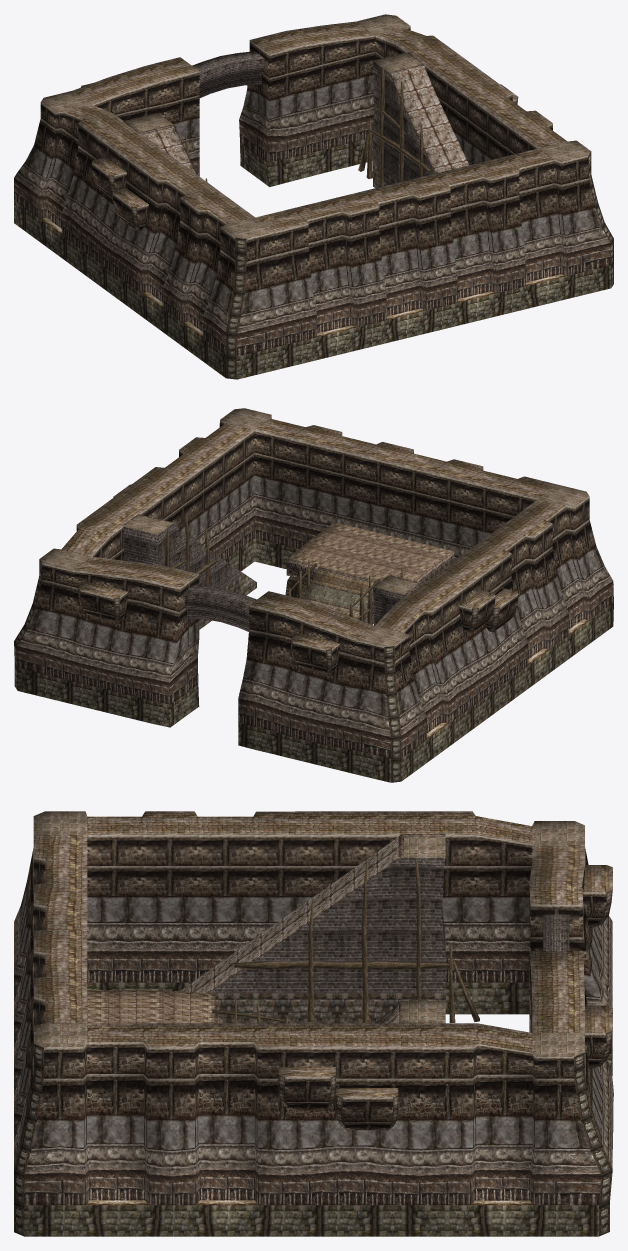
Rendered from OZ_30_er_build01B.glb.
The picture shows the model from 3 angles, top to bottom: view 1: azimuth 30°, elevation 25°; view 2: azimuth 150°, elevation 25°; view 3: azimuth 270°, elevation 25°; orthographic projection. The views are drawn at different scales.
Parts seen in each view (by area): view 1: OM_30_er_build01B; view 2: OM_30_er_build01B; view 3: OM_30_er_build01B.
Boxes of the visible parts, bbox=[...] form: OM_30_er_build01B: bbox=[14, 14, 613, 379]; OM_30_er_build01B: bbox=[14, 408, 613, 782]; OM_30_er_build01B: bbox=[14, 811, 613, 1236].
Size of the model in its own units: 66.69 by 21.82 by 65.63.
3 materials, 3 textured.
